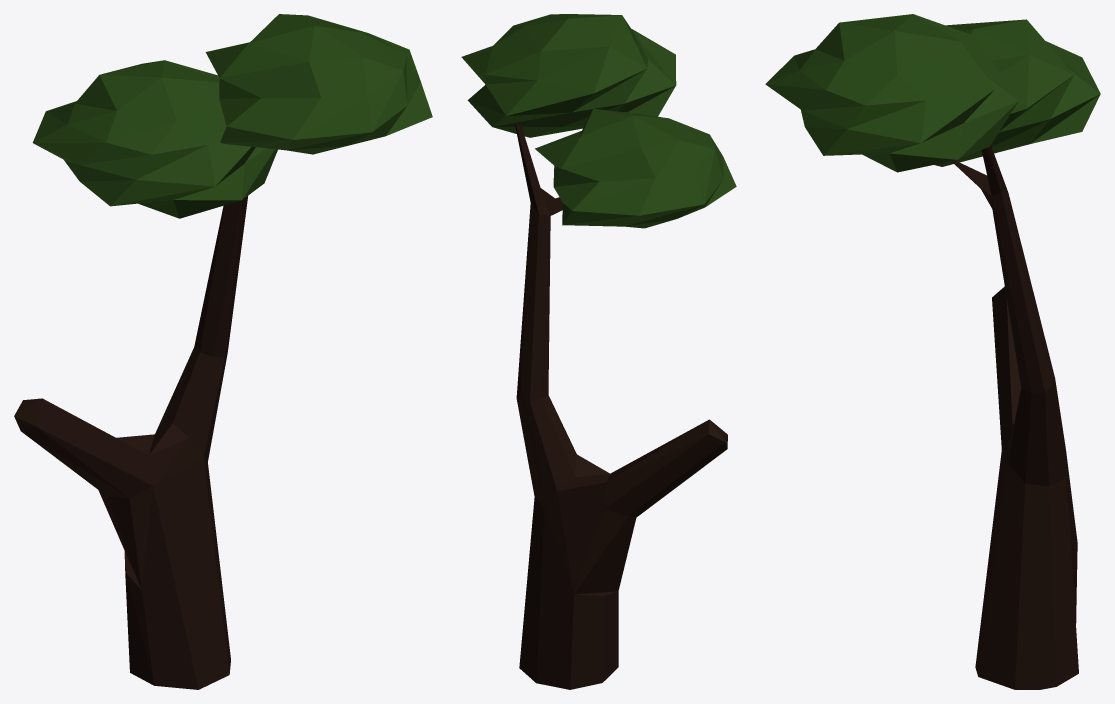
The model's file is SM_Tree06.fbx.
3 views of the same model, side by side, from view 1: azimuth 30°, elevation 25°; view 2: azimuth 150°, elevation 25°; view 3: azimuth 270°, elevation 25° (orthographic). The views are drawn at different scales.
Visible parts, largest first — view 1: Tree05; view 2: Tree05; view 3: Tree05.
Part boxes in pixels (x1=…): Tree05: x1=14, y1=14, x2=432, y2=689; Tree05: x1=461, y1=14, x2=736, y2=689; Tree05: x1=765, y1=14, x2=1100, y2=689.
Bounding box in the file's own units: 127 × 240 × 107.
